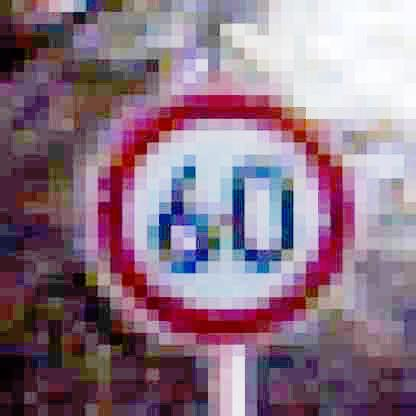Speed Limit -60-: (81, 86, 362, 346)
